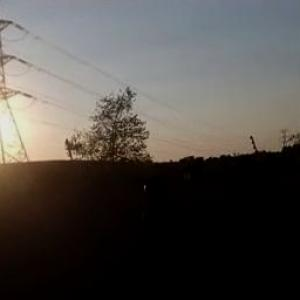follow: (138, 171, 202, 299)
